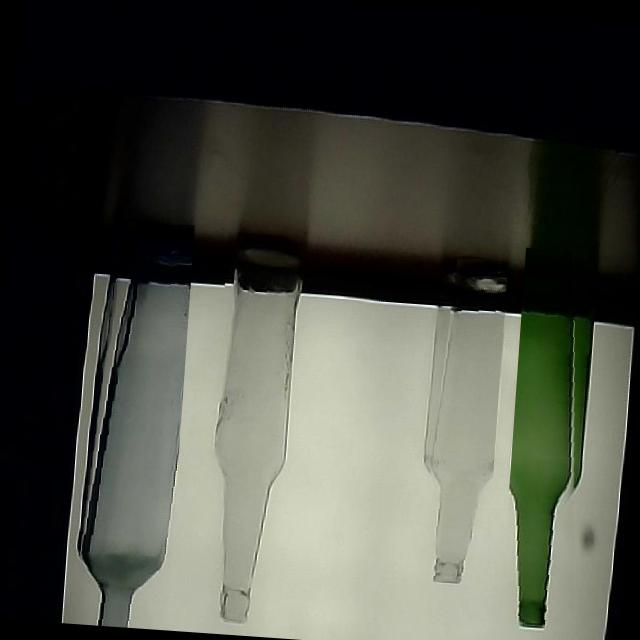Glass: (70, 216, 194, 629), (200, 230, 305, 624), (498, 246, 598, 629), (413, 252, 508, 584)
